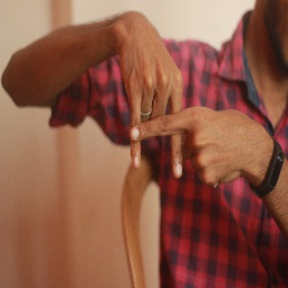H: (100, 64, 219, 186)
